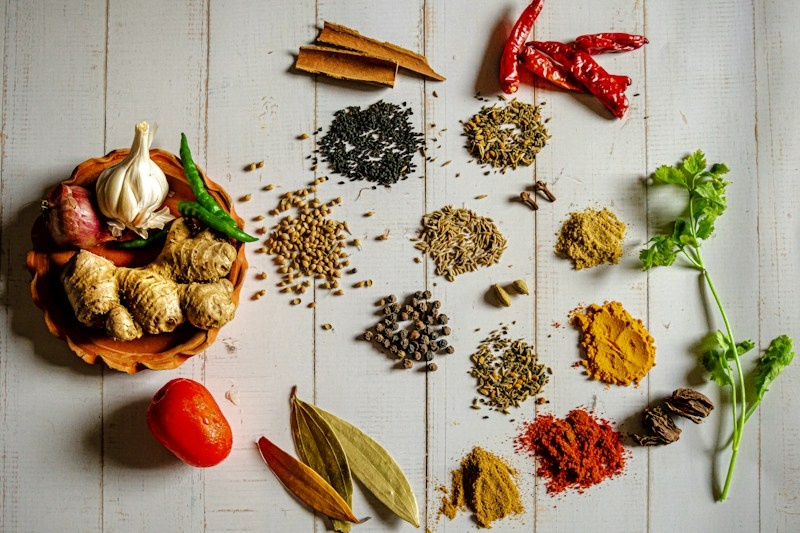banana peel: (96, 121, 170, 230)
